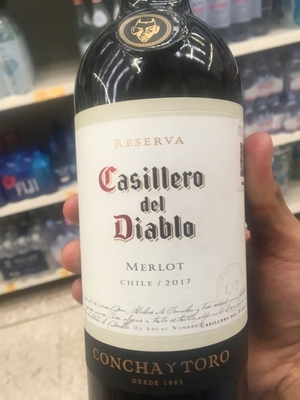casillero del diablo merlot: (72, 3, 252, 400)
